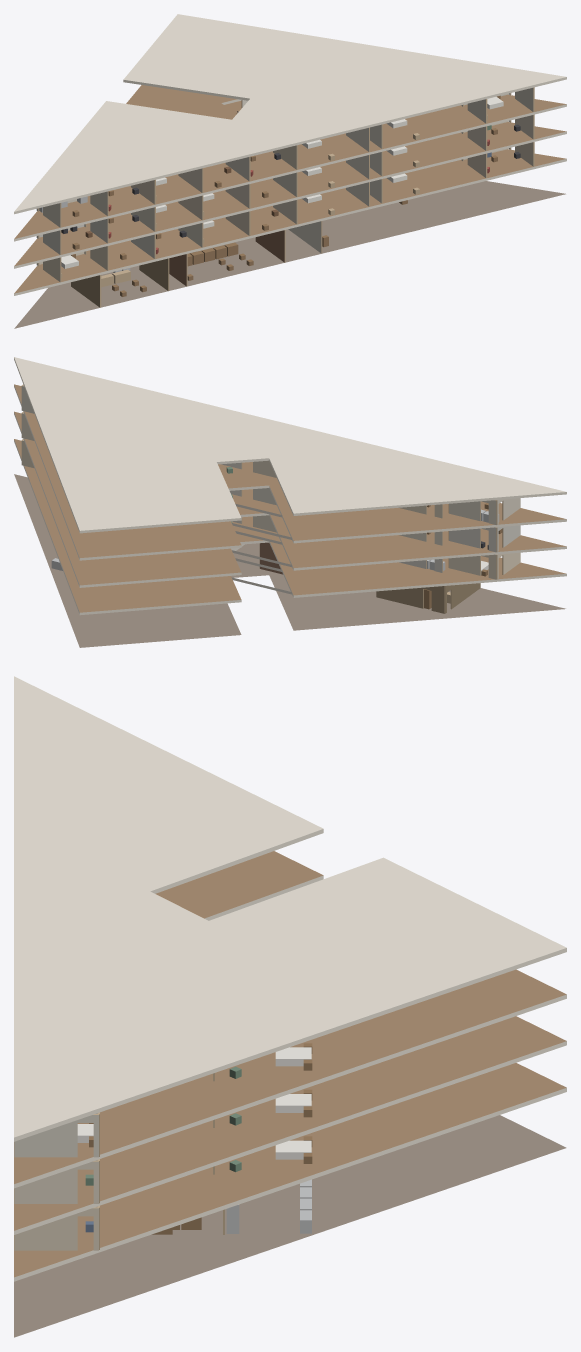
Rendered from interior.glb.
The picture shows the model from 3 angles, top to bottom: view 1: azimuth 30°, elevation 25°; view 2: azimuth 150°, elevation 25°; view 3: azimuth 270°, elevation 25°; orthographic projection. The views are drawn at different scales.
Parts seen in each view (by area): view 1: slabs, partitions, coarse-s0, coarse-s3, coarse-s1, coarse-s2; view 2: slabs, partitions; view 3: slabs, partitions, coarse-s0, coarse-s3, coarse-s1, coarse-s2.
Boxes of the visible parts, x1,y1,x2,y2 form: slabs: (14,14,566,328); partitions: (36,87,534,307); coarse-s0: (101,200,407,296); coarse-s3: (39,95,503,216); coarse-s1: (61,152,520,277); coarse-s2: (61,124,520,249); slabs: (14,357,566,647); partitions: (21,384,520,613); slabs: (14,676,566,1337); partitions: (14,1073,224,1250); coarse-s0: (152,1179,311,1234); coarse-s3: (77,1043,312,1147); coarse-s1: (85,1136,312,1232); coarse-s2: (85,1089,312,1185).
Bounding box in the file's own units: 60.48 × 12.25 × 30.63.
